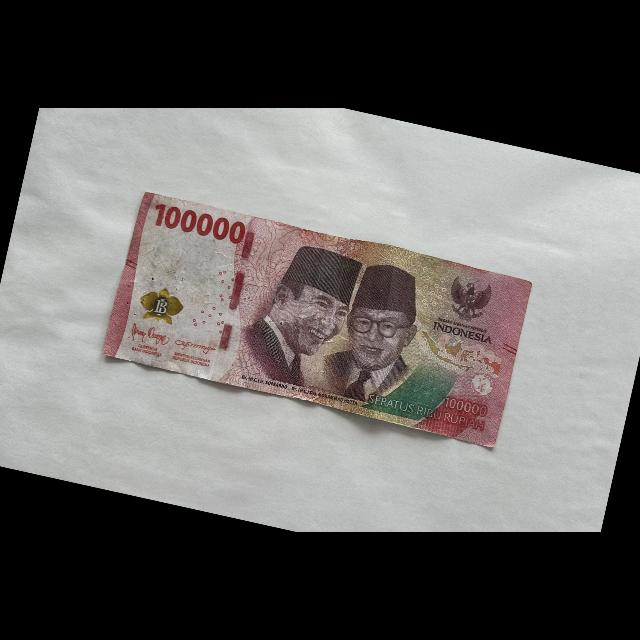Palsu-100k: (97, 186, 537, 454)
Tinta-Palsu-100k: (135, 283, 188, 327)
